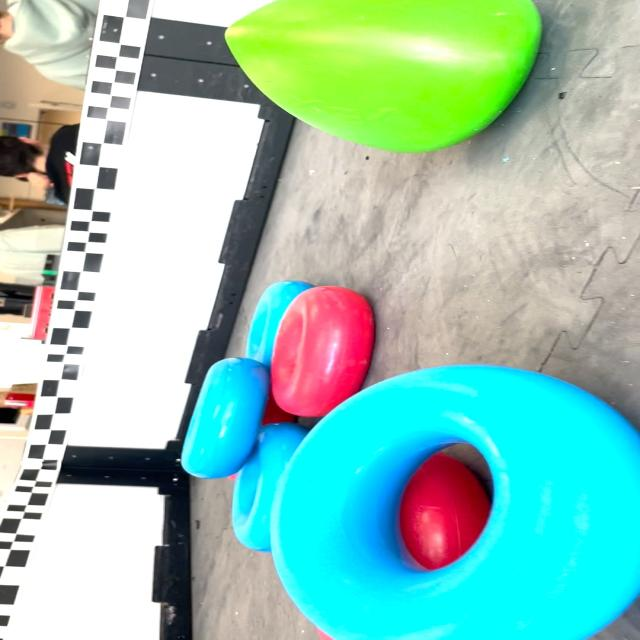Blue-Ring: (271, 365, 638, 640), (182, 358, 269, 479), (231, 422, 309, 551), (247, 281, 313, 366)
Red-Ring: (271, 286, 373, 416)
